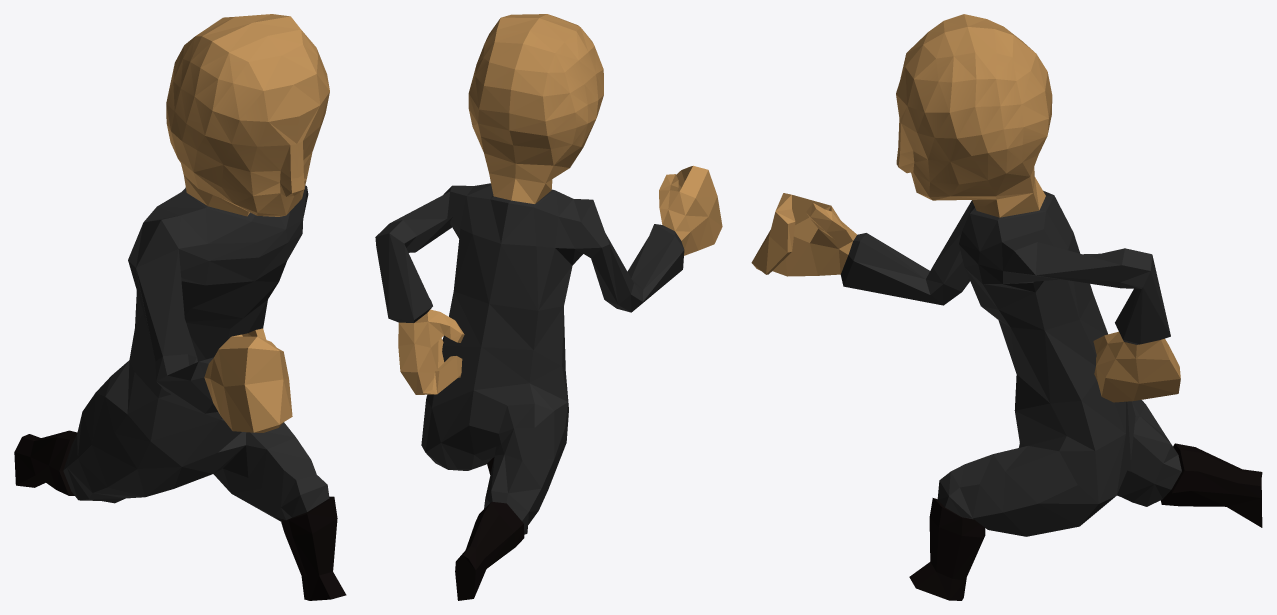
The model's file is KnightCharacter9.obj.
The picture shows the model from 3 angles, left to right: view 1: azimuth 30°, elevation 25°; view 2: azimuth 150°, elevation 25°; view 3: azimuth 270°, elevation 25°; orthographic projection. The views are drawn at different scales.
Visible parts, largest first — view 1: Knight; view 2: Knight; view 3: Knight.
Part boxes in pixels (x1,y1,x2,y2): Knight: (14,14,346,600); Knight: (375,14,722,600); Knight: (751,14,1262,600).
Bounding box in the file's own units: 1.9 × 4.85 × 4.11.
